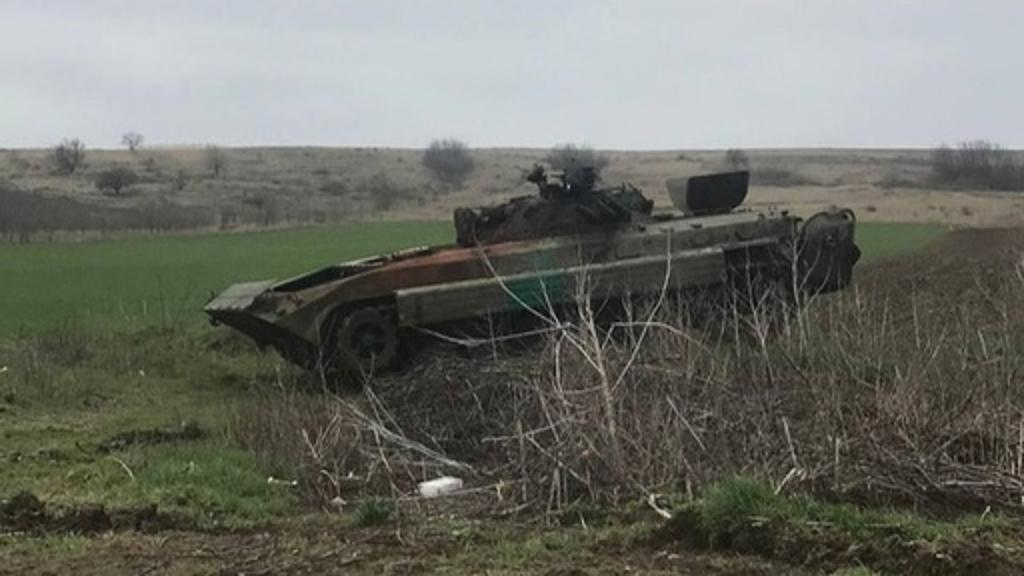APC-IFV: (204, 150, 848, 402)
